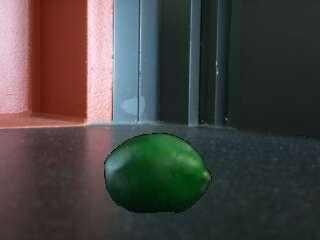Lime: (103, 133, 212, 213)
